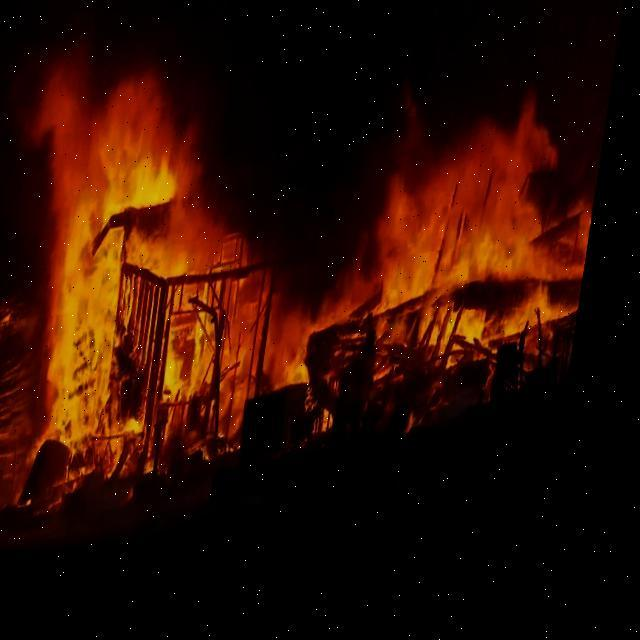Fire: (27, 42, 624, 511)
